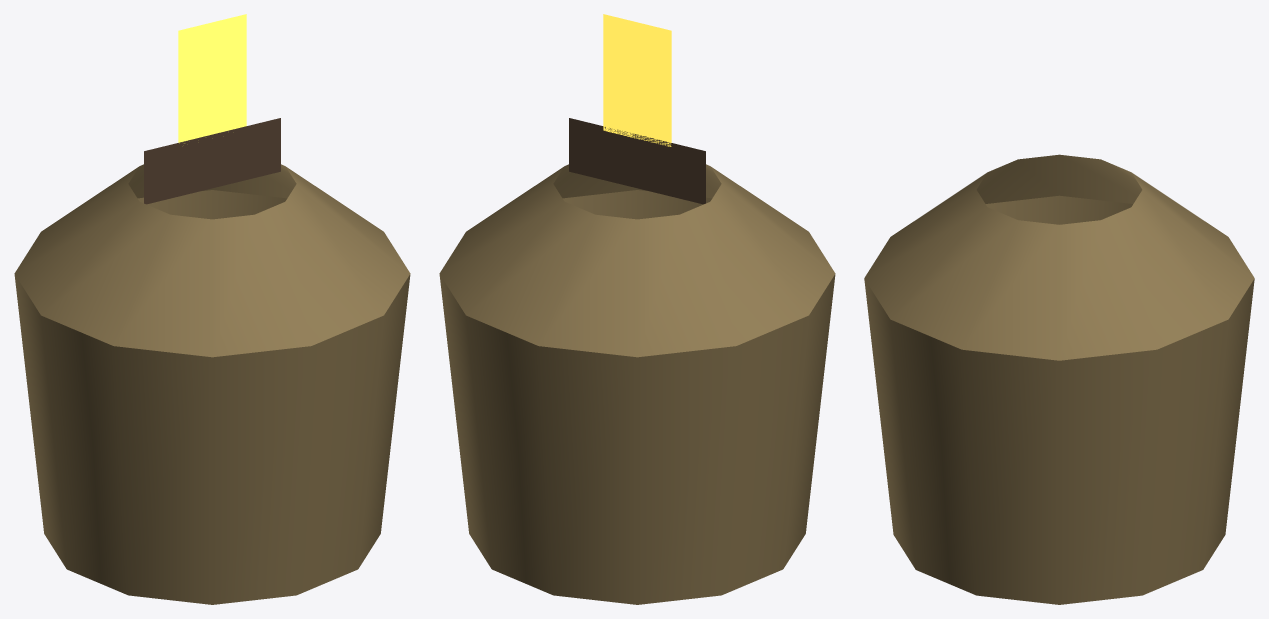
Rendered from DenDau.glb.
3 views of the same model, side by side, from view 1: azimuth 30°, elevation 25°; view 2: azimuth 150°, elevation 25°; view 3: azimuth 270°, elevation 25° (orthographic).
Visible parts, largest first — view 1: DenDau_Chai, DenDau_NgonLua, DenDau_Bac; view 2: DenDau_Chai, DenDau_NgonLua, DenDau_Bac; view 3: DenDau_Chai.
Boxes of the visible parts, <box> form: DenDau_Chai: <box>14,164,410,604</box>; DenDau_NgonLua: <box>178,14,246,143</box>; DenDau_Bac: <box>144,118,280,204</box>; DenDau_Chai: <box>439,164,835,604</box>; DenDau_NgonLua: <box>603,14,671,146</box>; DenDau_Bac: <box>569,118,705,204</box>; DenDau_Chai: <box>864,154,1254,604</box>.
Bounding box in the file's own units: 0.08 × 0.114 × 0.08.
